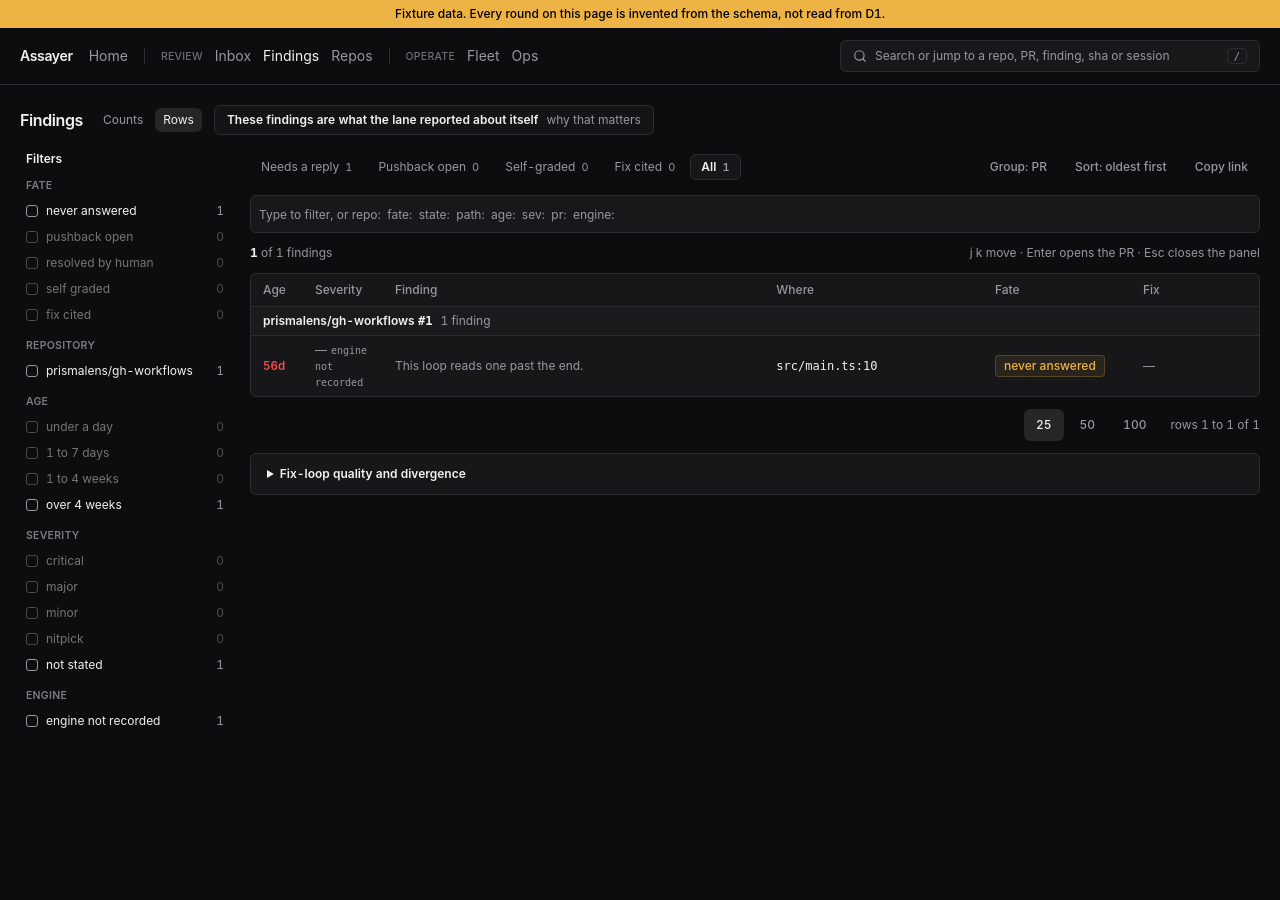
Test: /findings: the inbox › typing path:src/ into the FilterBar creates a token
This screenshot has width=1280, height=900.
Expected: the text "src/main.ts:10" is shown, [768,336,987,396]
Replace the text in the search field labelled "filter" with "path:src/ " at (755, 214), box [259,200,1251,228]
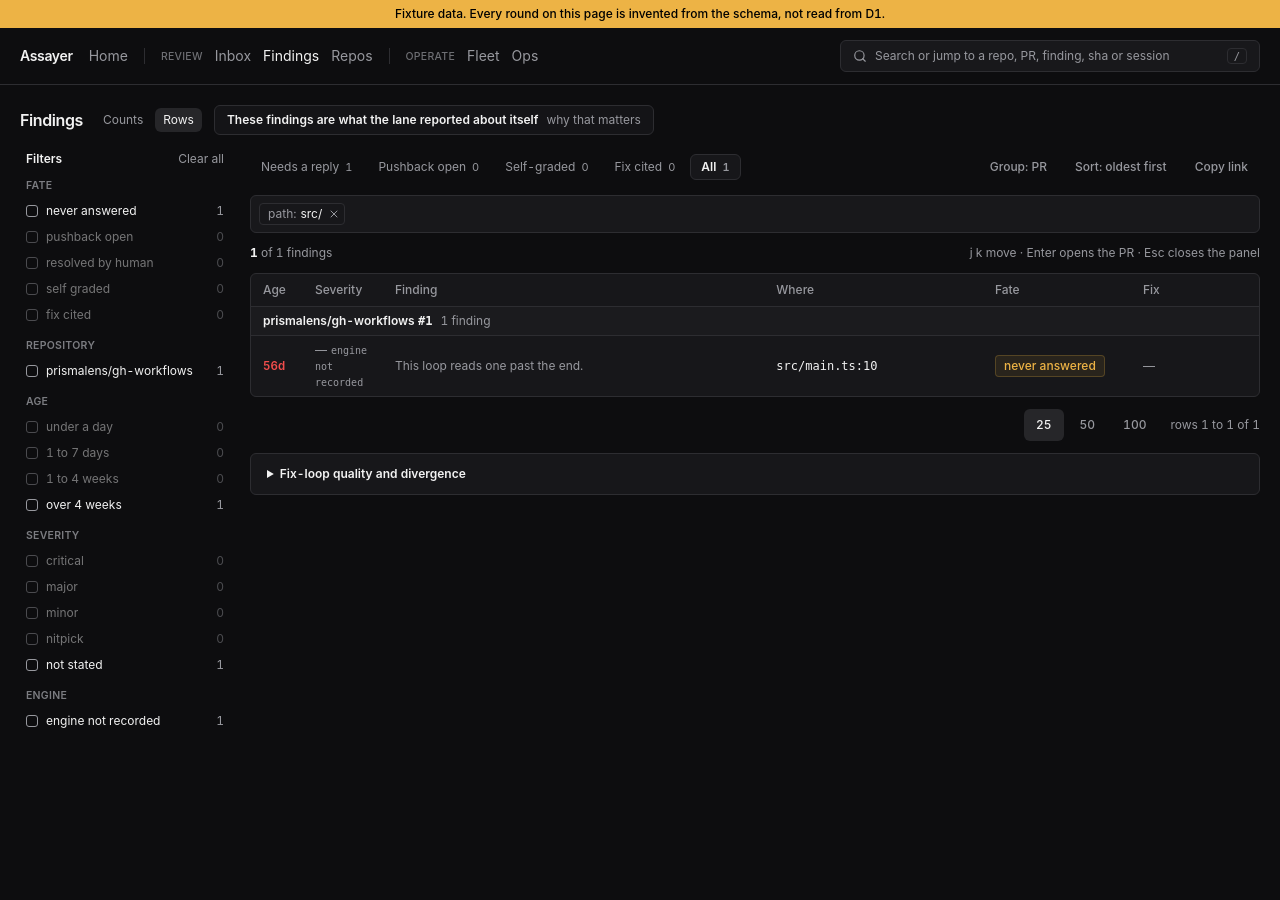
Now the element with test id "filter-token-path" reads "path: src/", box [259,203,345,225]
